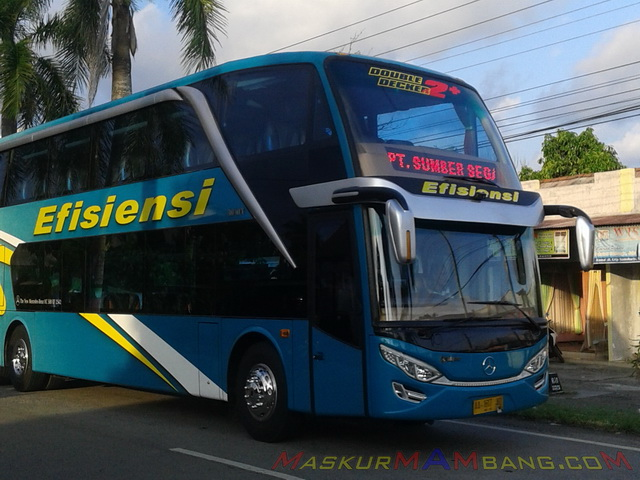plate: (475, 395, 503, 412)
